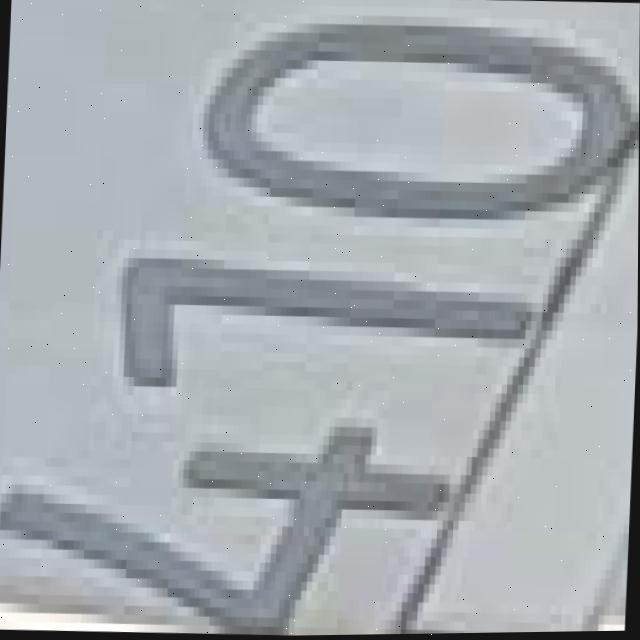character: (0, 393, 458, 640), (194, 2, 640, 239), (107, 231, 550, 415)
